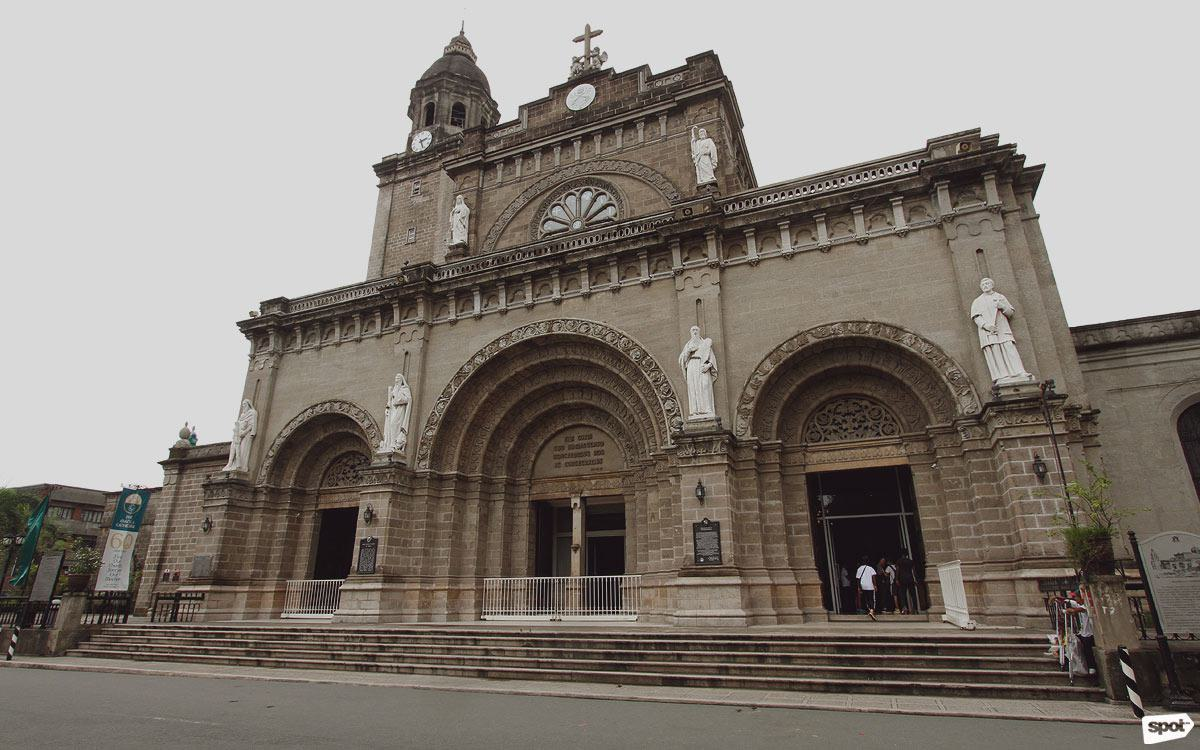manila_cathedral_church_intramuros_manila: (155, 18, 1112, 632)
